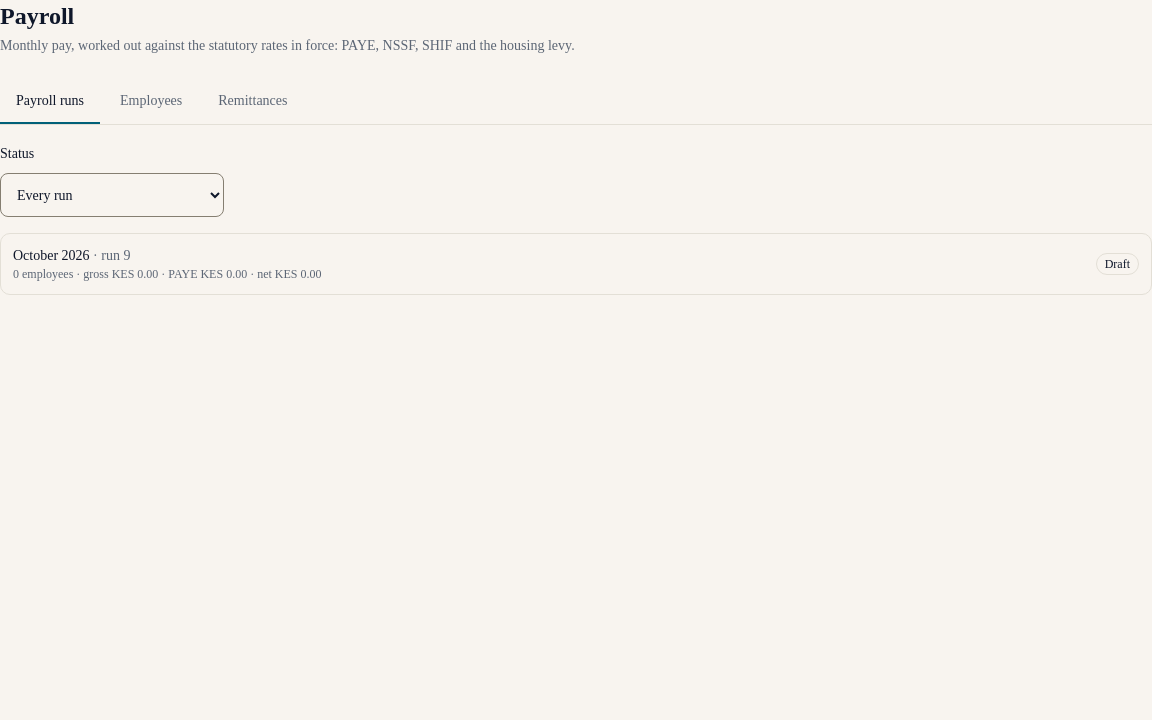
Test: payroll runs › lets the accountant read runs and payslips but act on none
Click the button with aria-label "October 2026 · run 9 · Draft" at (51, 256), box [0,233,1151,295]
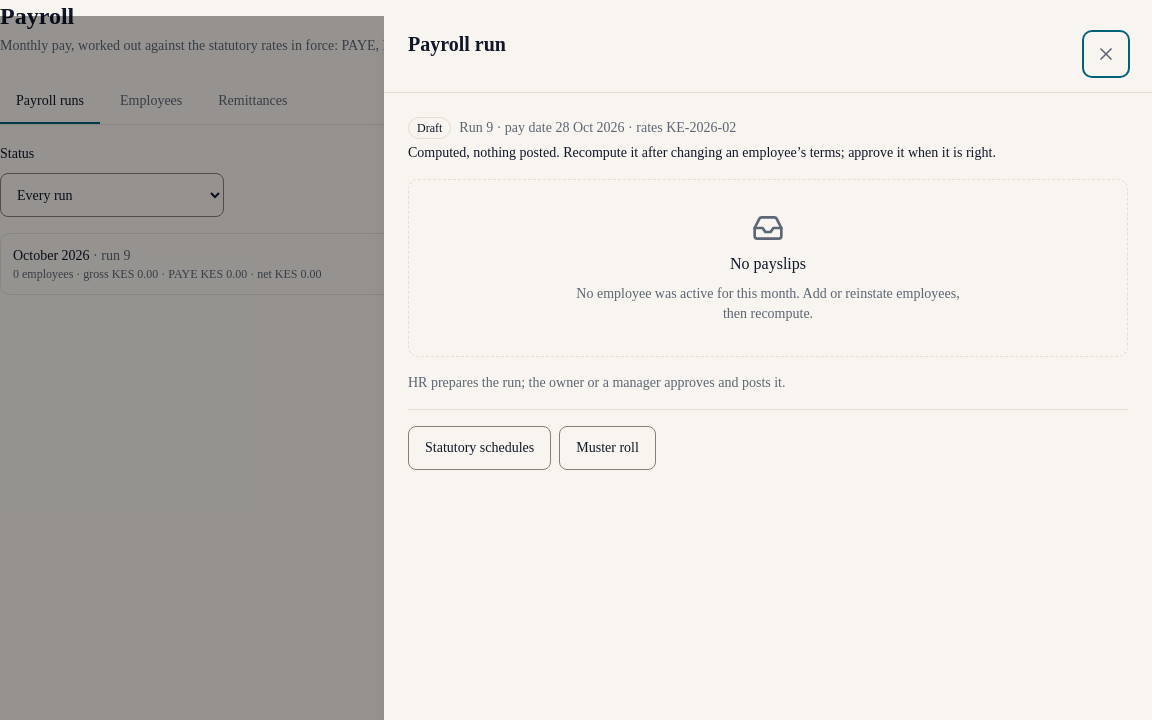
Now the text "HR prepares the run" is shown, box [408,375,786,390]
Now the button "Muster roll" is shown, box [559,426,656,470]
